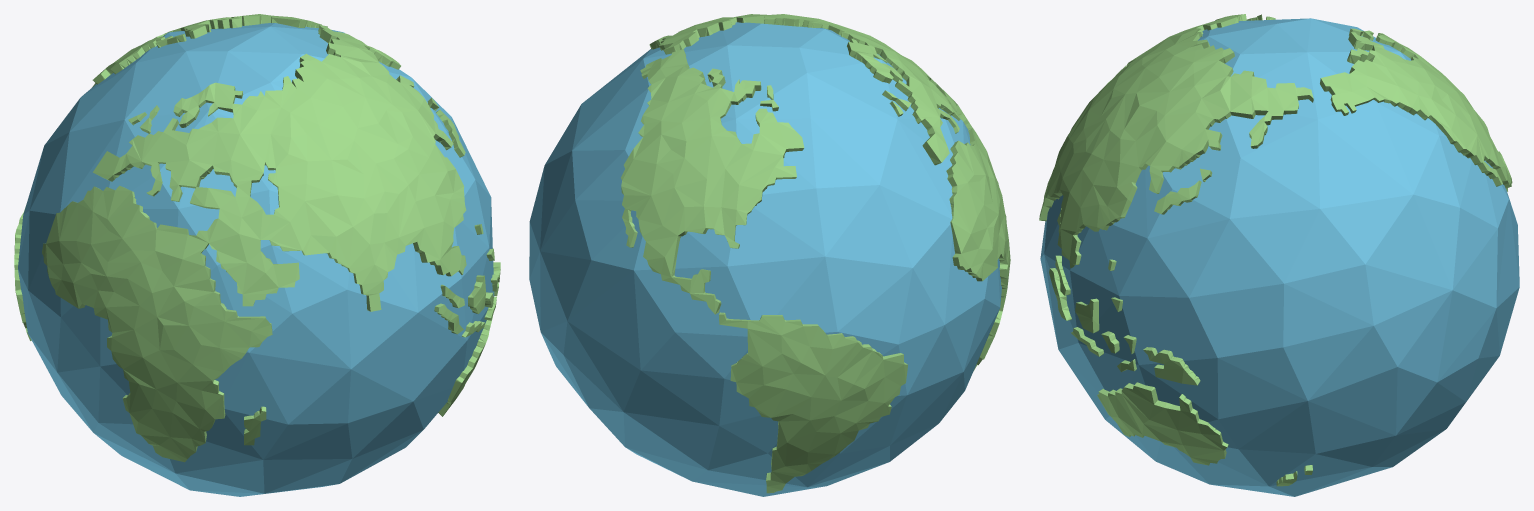
The picture shows the model from 3 angles, left to right: view 1: azimuth 30°, elevation 25°; view 2: azimuth 150°, elevation 25°; view 3: azimuth 270°, elevation 25°; orthographic projection.
Parts seen in each view (by area): view 1: 3DSMeshMatrix (×2); view 2: 3DSMeshMatrix (×2); view 3: 3DSMeshMatrix (×2).
Boxes of the visible parts, left/top/right/bottom form: 3DSMeshMatrix (×2): left=14, top=14, right=500, bottom=496; 3DSMeshMatrix (×2): left=529, top=14, right=1010, bottom=496; 3DSMeshMatrix (×2): left=1039, top=14, right=1519, bottom=496.
Bounding box in the file's own units: 208 × 206 × 207.
